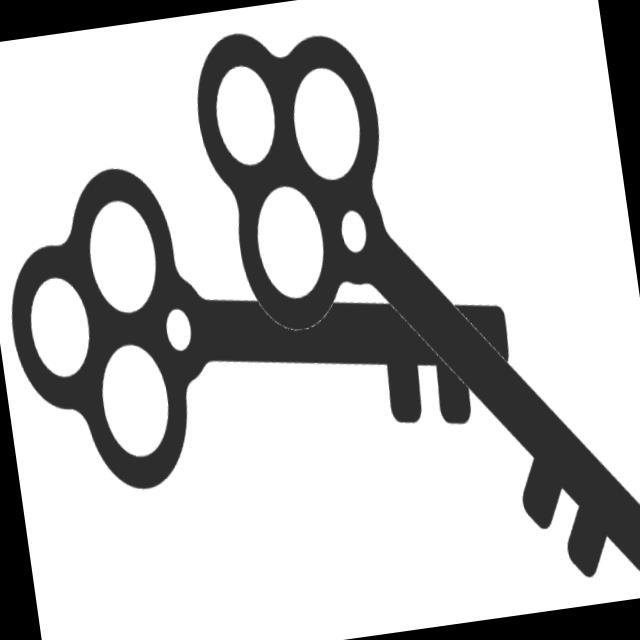key: (180, 1, 640, 637), (1, 106, 532, 517)
